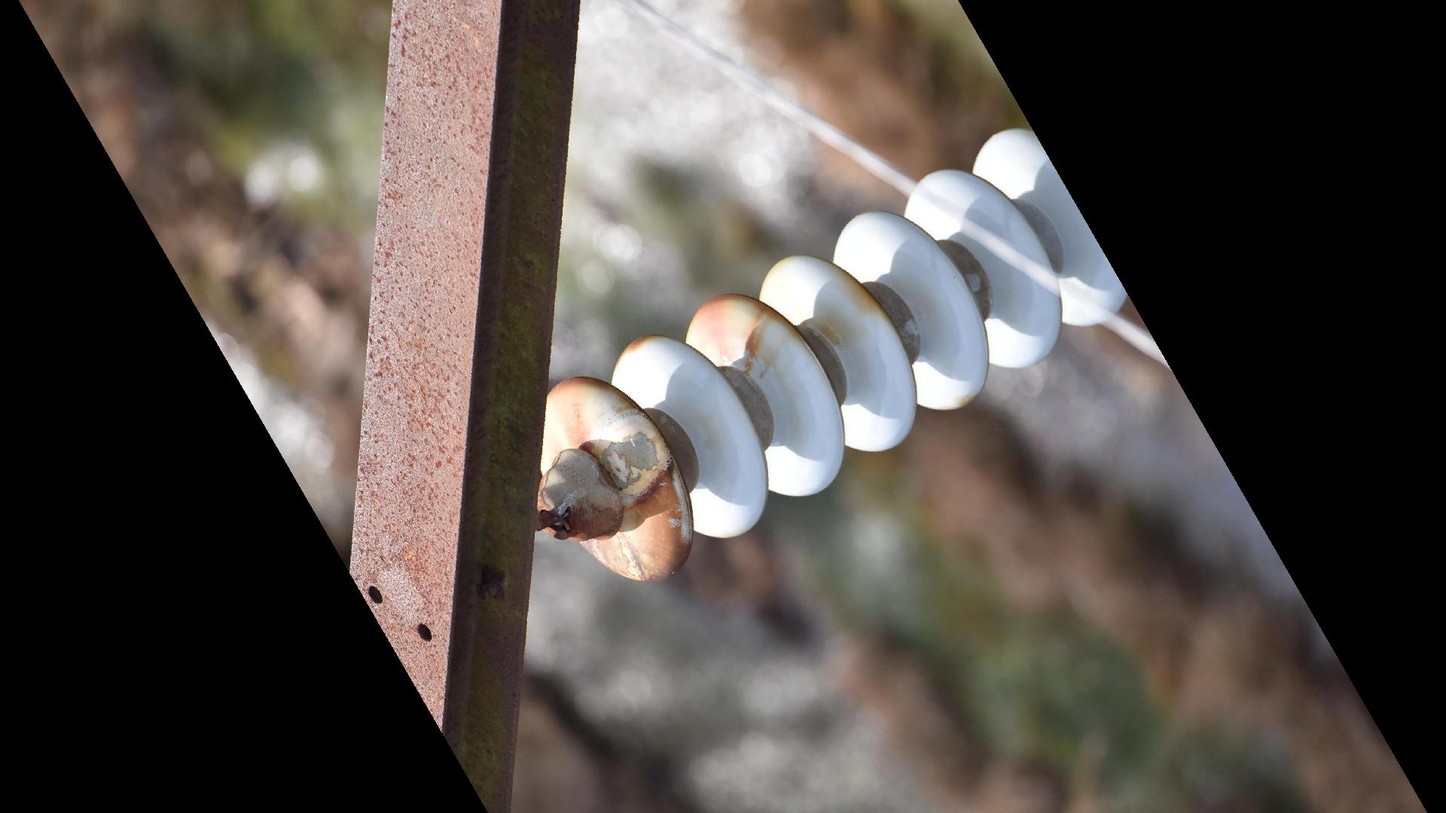insulator: (537, 120, 1131, 588)
insulator_flashover: (591, 410, 672, 496)
